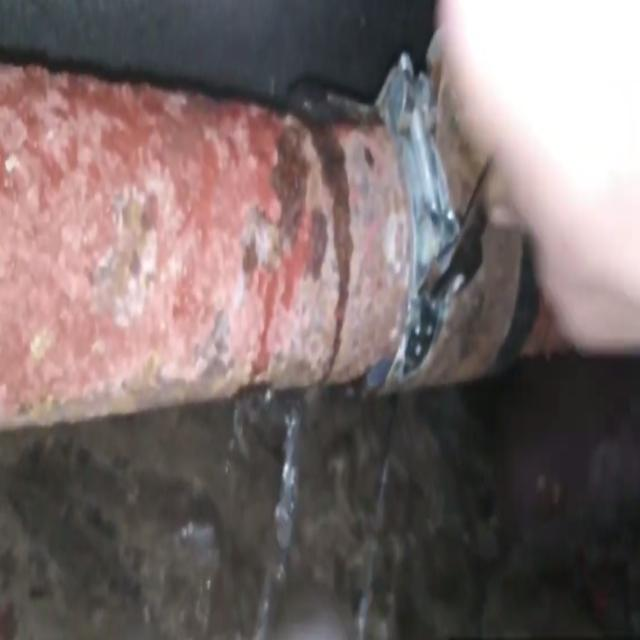leak: (255, 403, 301, 637)
